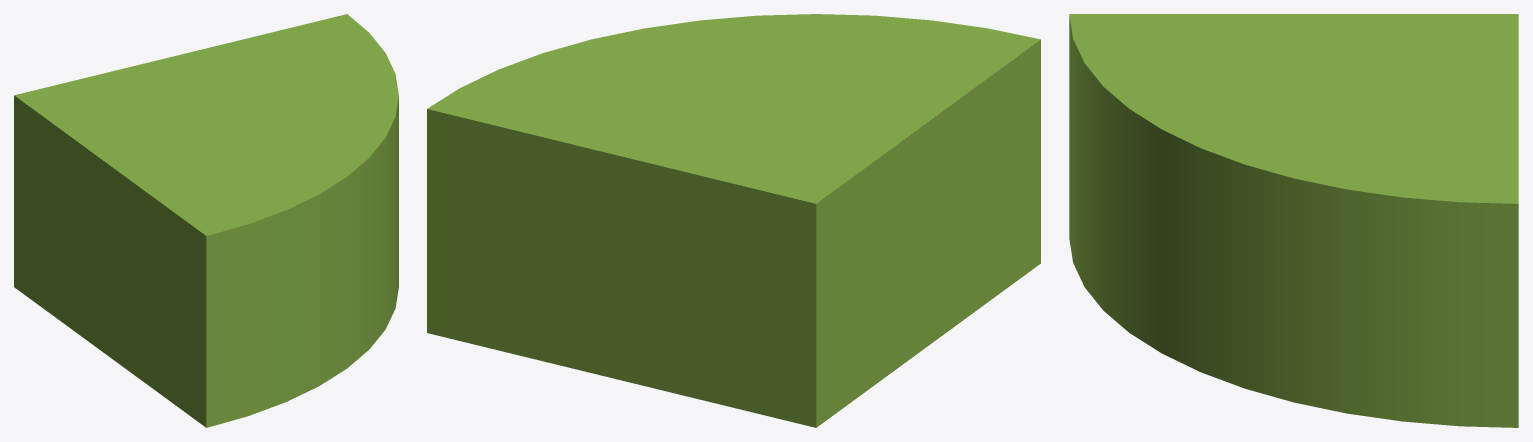
The model's file is grass_corner.obj.
3 views of the same model, side by side, from view 1: azimuth 30°, elevation 25°; view 2: azimuth 150°, elevation 25°; view 3: azimuth 270°, elevation 25° (orthographic). The views are drawn at different scales.
Visible parts, largest first — view 1: Mesh1_Group1_Model.027; view 2: Mesh1_Group1_Model.027; view 3: Mesh1_Group1_Model.027.
Part boxes in pixels (bbox=[...]): Mesh1_Group1_Model.027: bbox=[14, 14, 398, 427]; Mesh1_Group1_Model.027: bbox=[427, 14, 1040, 427]; Mesh1_Group1_Model.027: bbox=[1069, 14, 1518, 427].
Size of the model in its own units: 3 by 1.65 by 3.
